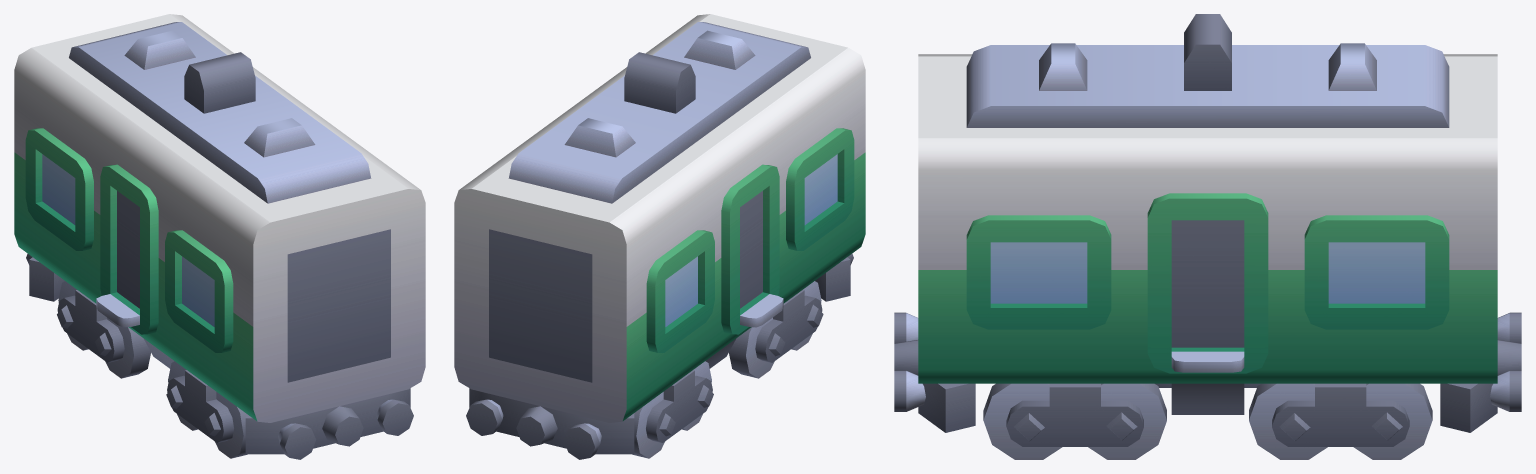
Rendered from kenney-train-train-electric-square-b.glb.
3 renders of one model, left to right at view 1: azimuth 30°, elevation 25°; view 2: azimuth 150°, elevation 25°; view 3: azimuth 270°, elevation 25°, orthographic. The views are drawn at different scales.
Visible parts, largest first — view 1: train-electric-square-b, wheels-back, wheels-front; view 2: train-electric-square-b, wheels-front, wheels-back; view 3: train-electric-square-b, wheels-back, wheels-front.
Part boxes in pixels (box(x1,y1,x2,y2)): train-electric-square-b: box(14, 14, 425, 459); wheels-back: box(57, 281, 150, 378); wheels-front: box(166, 361, 247, 458); train-electric-square-b: box(454, 14, 865, 459); wheels-front: box(729, 281, 823, 378); wheels-back: box(632, 361, 713, 458); train-electric-square-b: box(894, 14, 1521, 432); wheels-back: box(1249, 383, 1432, 459); wheels-front: box(983, 383, 1166, 459).
Size of the model in its own units: 1.3 by 1.78 by 2.6.
Materials: 1 (1 with a texture image).
